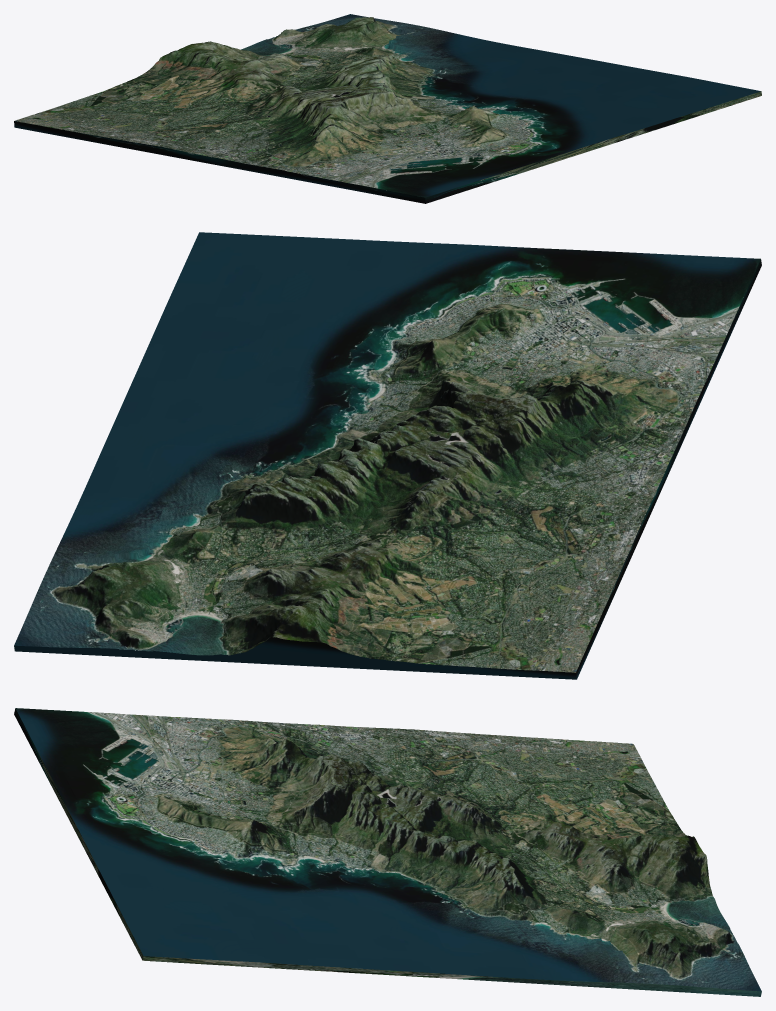
File: table_mountain.glb
3 renders of one model, top to bottom at view 1: azimuth 30°, elevation 25°; view 2: azimuth 150°, elevation 25°; view 3: azimuth 270°, elevation 25°, orthographic. The views are drawn at different scales.
Parts seen in each view (by area): view 1: Cube; view 2: Cube; view 3: Cube.
Boxes of the visible parts, <box> form: Cube: <box>14,14,761,203</box>; Cube: <box>14,232,761,679</box>; Cube: <box>14,708,761,996</box>.
Bounding box in the file's own units: 2.01 × 0.4871 × 2.25.
1 material, 1 textured.
